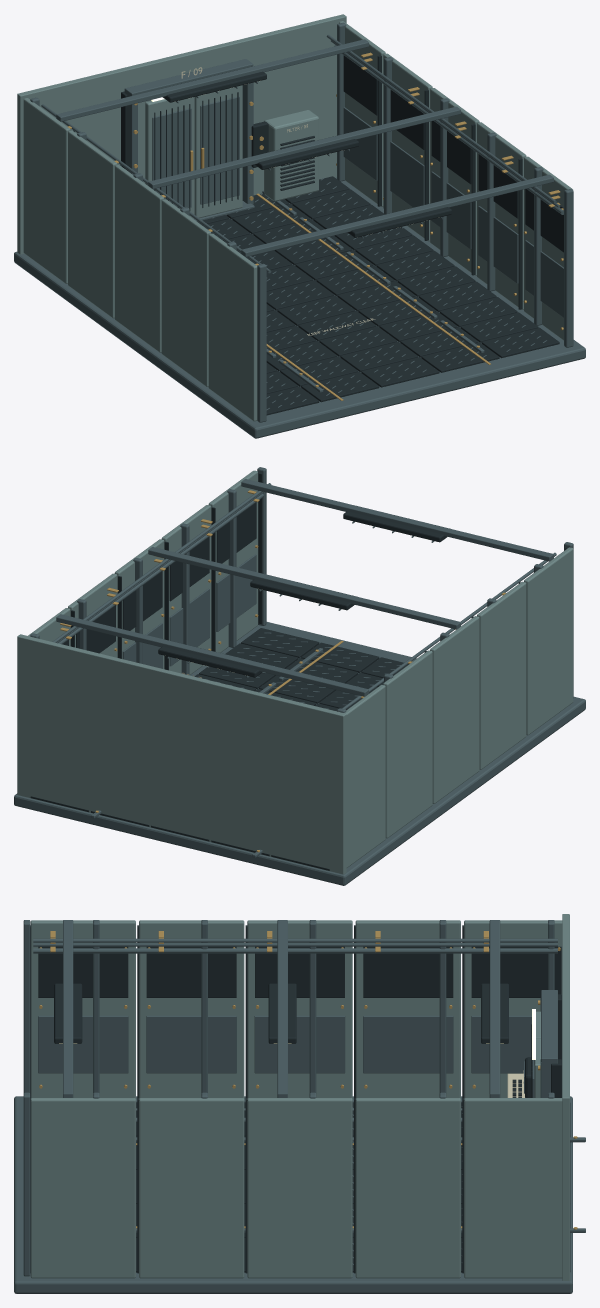
File: shell.glb
The picture shows the model from 3 angles, top to bottom: view 1: azimuth 30°, elevation 25°; view 2: azimuth 150°, elevation 25°; view 3: azimuth 270°, elevation 25°; orthographic projection. The views are drawn at different scales.
Parts seen in each view (by area): view 1: ShellWalls_Mesh, ShellStatic_Mesh, DoorRight_Mesh, DoorLeft_Mesh; view 2: ShellStatic_Mesh, ShellWalls_Mesh; view 3: ShellWalls_Mesh, ShellStatic_Mesh, DoorRight_Mesh.
Boxes of the visible parts, box(x1,y1,x2,y2) form: ShellWalls_Mesh: box(23, 21, 573, 422); ShellStatic_Mesh: box(14, 14, 585, 438); DoorRight_Mesh: box(194, 85, 242, 217); DoorLeft_Mesh: box(145, 97, 194, 218); ShellStatic_Mesh: box(14, 622, 585, 885); ShellWalls_Mesh: box(28, 467, 573, 867); ShellWalls_Mesh: box(23, 920, 562, 1278); ShellStatic_Mesh: box(14, 914, 585, 1293); DoorRight_Mesh: box(531, 1038, 540, 1097).
Size of the model in its own units: 10.2 by 4.98 by 13.2.
